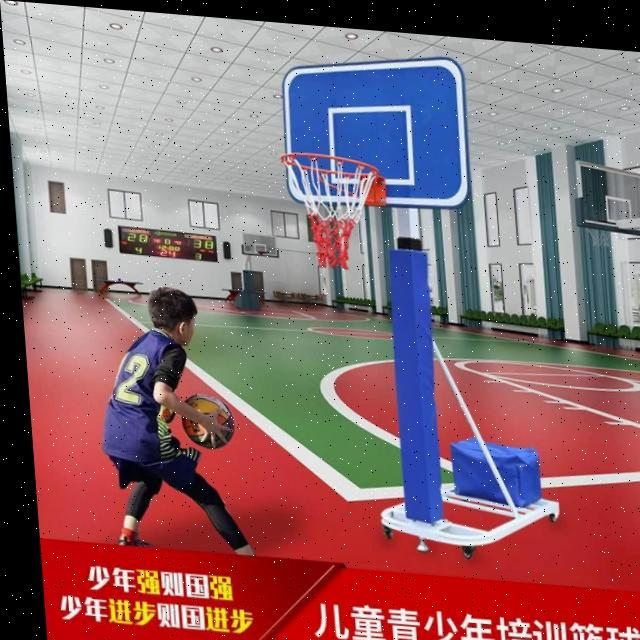basketball: (180, 392, 238, 451)
hoop: (281, 150, 387, 275)
